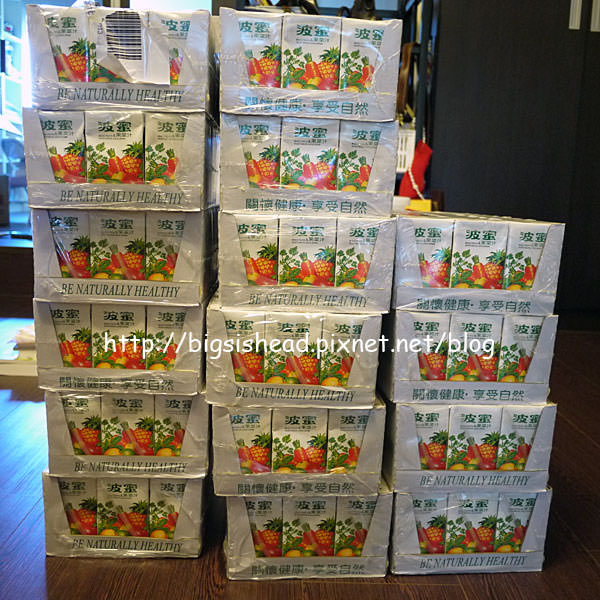vegetables juice: (446, 212, 504, 302), (504, 216, 562, 306), (394, 304, 452, 394), (398, 211, 456, 301), (448, 306, 506, 396), (502, 310, 560, 400), (498, 403, 556, 493), (449, 404, 507, 494), (389, 404, 447, 494), (383, 491, 441, 581), (440, 490, 498, 580), (501, 498, 559, 588), (280, 497, 338, 587), (271, 407, 329, 497), (271, 313, 329, 403), (281, 208, 339, 298), (283, 120, 341, 210), (283, 11, 341, 101), (219, 9, 277, 99), (220, 120, 278, 210), (342, 127, 400, 217), (345, 7, 403, 97), (336, 219, 394, 309), (218, 215, 276, 305), (212, 310, 270, 400), (214, 389, 272, 479), (220, 497, 278, 587), (331, 494, 389, 584), (329, 397, 387, 487), (94, 473, 152, 563), (105, 387, 163, 477), (92, 306, 150, 396), (90, 217, 148, 307), (85, 106, 143, 196), (146, 108, 204, 198), (145, 218, 203, 308), (150, 300, 208, 390), (156, 376, 214, 466), (160, 468, 218, 558), (39, 478, 97, 568), (39, 391, 97, 481), (30, 300, 88, 390), (31, 204, 89, 294), (24, 108, 82, 198), (30, 6, 88, 96), (151, 1, 209, 90)
